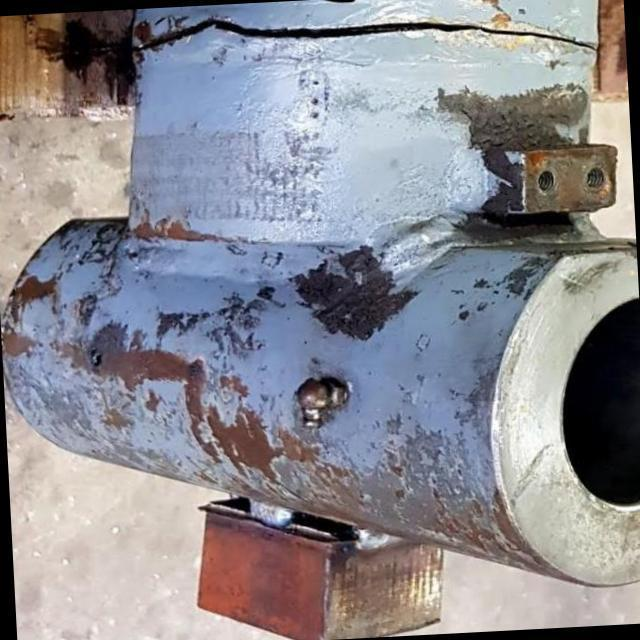defect: (112, 15, 600, 54)
